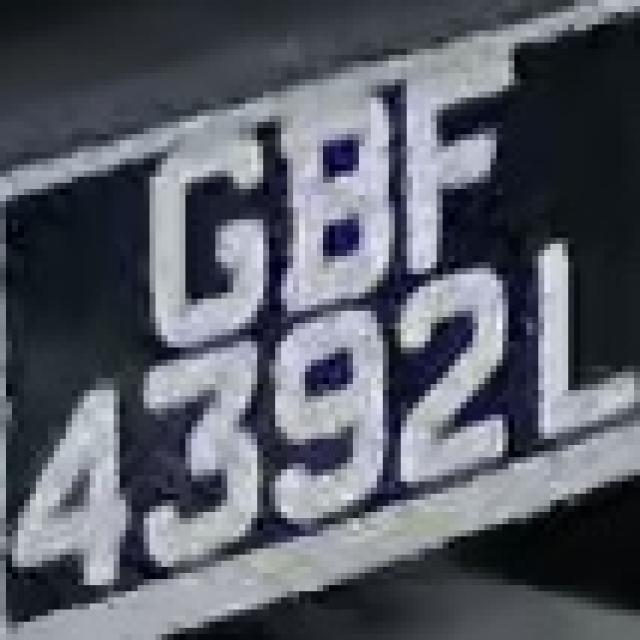2: (377, 262, 520, 530)
3: (132, 329, 275, 585)
4: (6, 366, 155, 616)
9: (245, 299, 395, 536)
B: (257, 67, 401, 317)
F: (383, 37, 520, 274)
G: (126, 98, 275, 348)
L: (520, 232, 640, 463)
